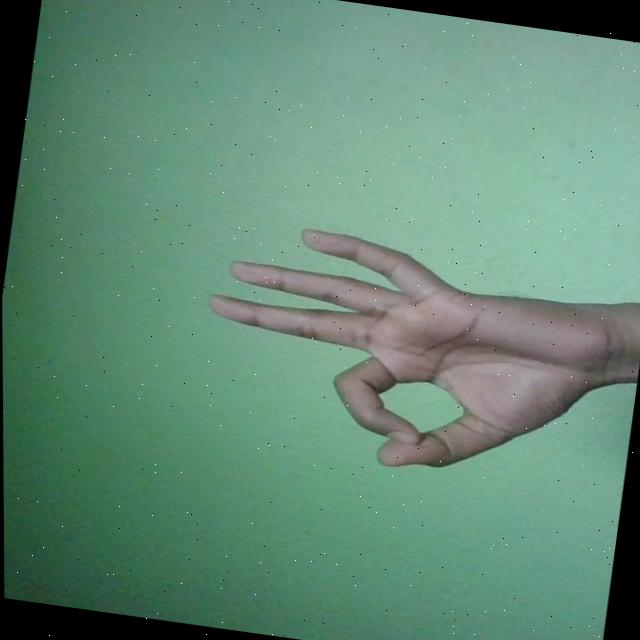Ok: (190, 216, 629, 495)
